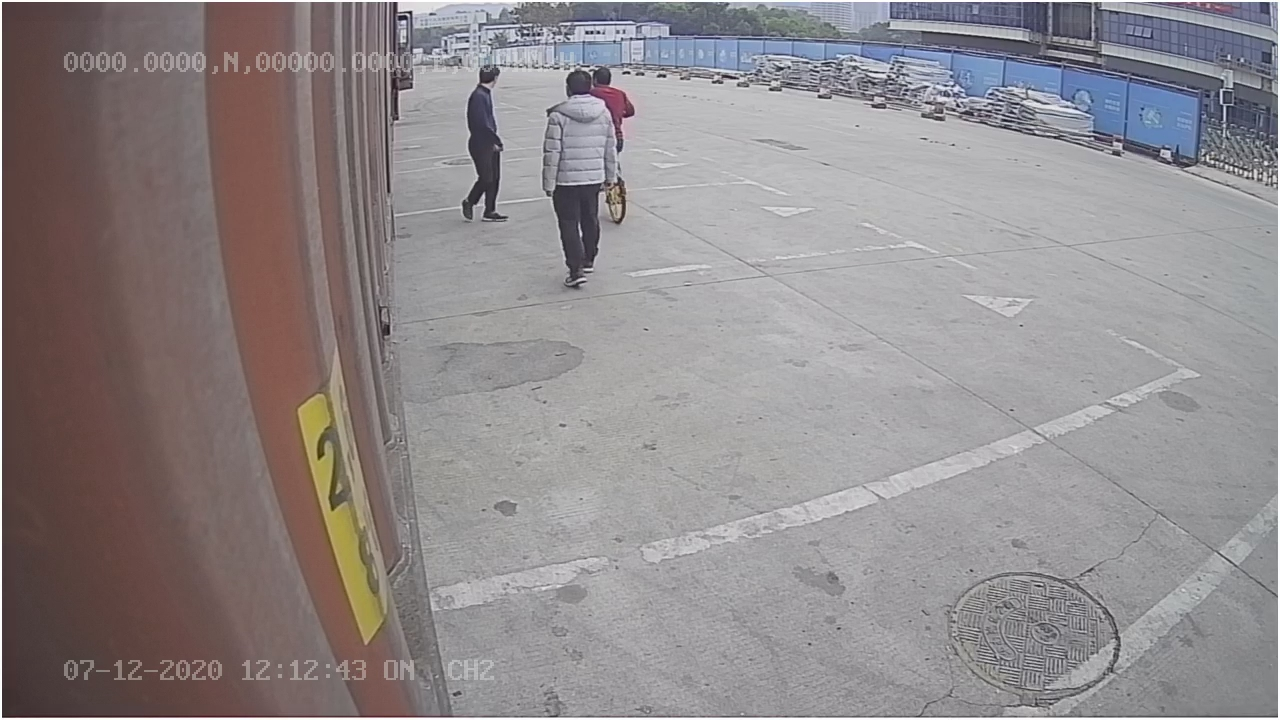person: (543, 72, 625, 291)
